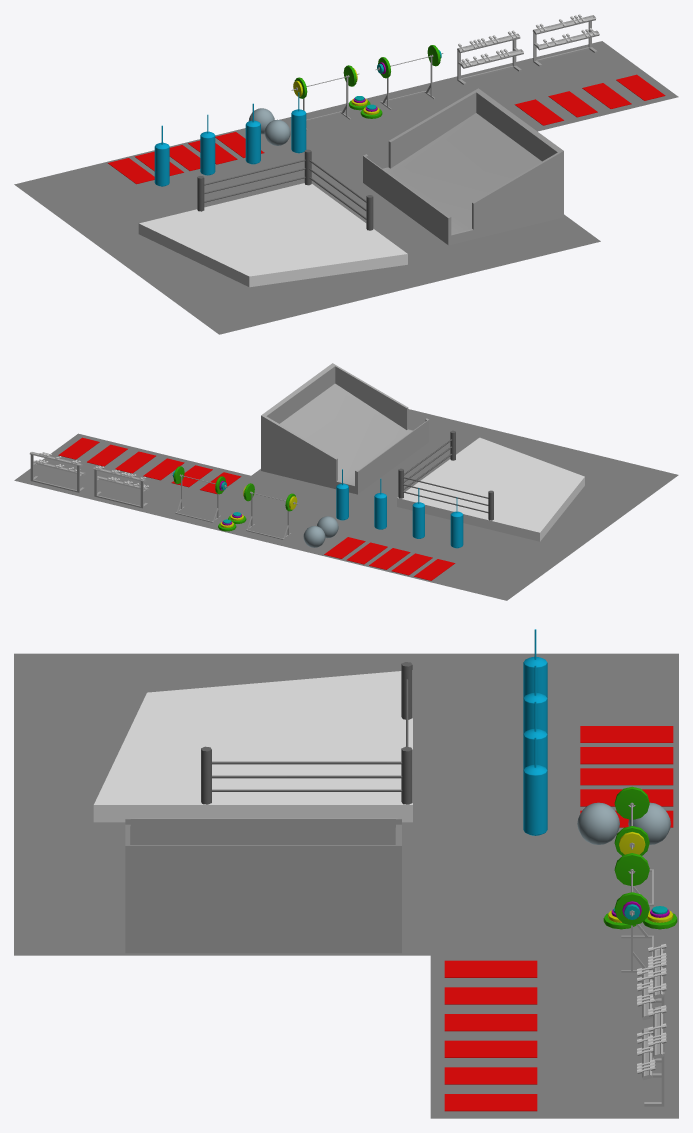
File: BackGround.fbx
The picture shows the model from 3 angles, top to bottom: view 1: azimuth 30°, elevation 25°; view 2: azimuth 150°, elevation 25°; view 3: azimuth 270°, elevation 25°; orthographic projection. The views are drawn at different scales.
Visible parts, largest first — view 1: pPlane1, pCube7, pCube1, BoksZak, BoksZak2, BoksZak1, BoksZak3, pCube18, pCube17, pCube16, pCube19, pCube2 (+2 smaller); view 2: pPlane1, pCube7, pCube1, BoksZak, BoksZak2, BoksZak1, BoksZak3, pCube3, pCube4, pCube5, pCube6, pCube16 (+6 smaller); view 3: pPlane1, pCube7, pCube1, BoksZak3, pCube17, pCube20, pCube3, pCube4, pCube16, pCube18, pCube19, pCube21 (+11 smaller).
Part boxes in pixels (x1=…): pPlane1: x1=14, y1=41, x2=678, y2=334; pCube7: x1=363, y1=88, x2=563, y2=245; pCube1: x1=138, y1=183, x2=407, y2=287; BoksZak: x1=154, y1=125, x2=169, y2=186; BoksZak2: x1=245, y1=103, x2=260, y2=164; BoksZak1: x1=200, y1=114, x2=215, y2=175; BoksZak3: x1=291, y1=92, x2=306, y2=153; pCube18: x1=548, y1=91, x2=597, y2=117; pCube17: x1=582, y1=83, x2=631, y2=108; pCube16: x1=616, y1=74, x2=665, y2=100; pCube19: x1=514, y1=99, x2=563, y2=125; pCube2: x1=108, y1=158, x2=154, y2=184; pPlane1: x1=14, y1=409, x2=678, y2=600; pCube7: x1=261, y1=363, x2=429, y2=494; pCube1: x1=397, y1=437, x2=584, y2=541; BoksZak: x1=450, y1=497, x2=463, y2=548; BoksZak2: x1=374, y1=478, x2=386, y2=529; BoksZak1: x1=412, y1=488, x2=424, y2=538; BoksZak3: x1=336, y1=469, x2=348, y2=520; pCube3: x1=391, y1=553, x2=432, y2=575; pCube4: x1=369, y1=548, x2=410, y2=569; pCube5: x1=346, y1=542, x2=387, y2=564; pCube6: x1=324, y1=537, x2=365, y2=558; pCube16: x1=58, y1=437, x2=99, y2=459; pPlane1: x1=14, y1=653, x2=678, y2=1118; pCube7: x1=125, y1=818, x2=401, y2=953; pCube1: x1=93, y1=670, x2=412, y2=822; BoksZak3: x1=523, y1=737, x2=547, y2=835; pCube17: x1=444, y1=1067, x2=537, y2=1084; pCube20: x1=444, y1=987, x2=537, y2=1004; pCube3: x1=580, y1=747, x2=673, y2=764; pCube4: x1=580, y1=768, x2=673, y2=785; pCube16: x1=444, y1=1094, x2=537, y2=1111; pCube18: x1=444, y1=1040, x2=537, y2=1057; pCube19: x1=444, y1=1014, x2=537, y2=1031; pCube21: x1=444, y1=960, x2=537, y2=977.
Bounding box in the file's own units: 1036 × 148 × 626.
